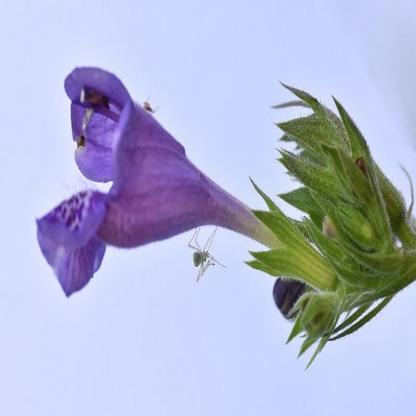aphid: (180, 208, 226, 288)
